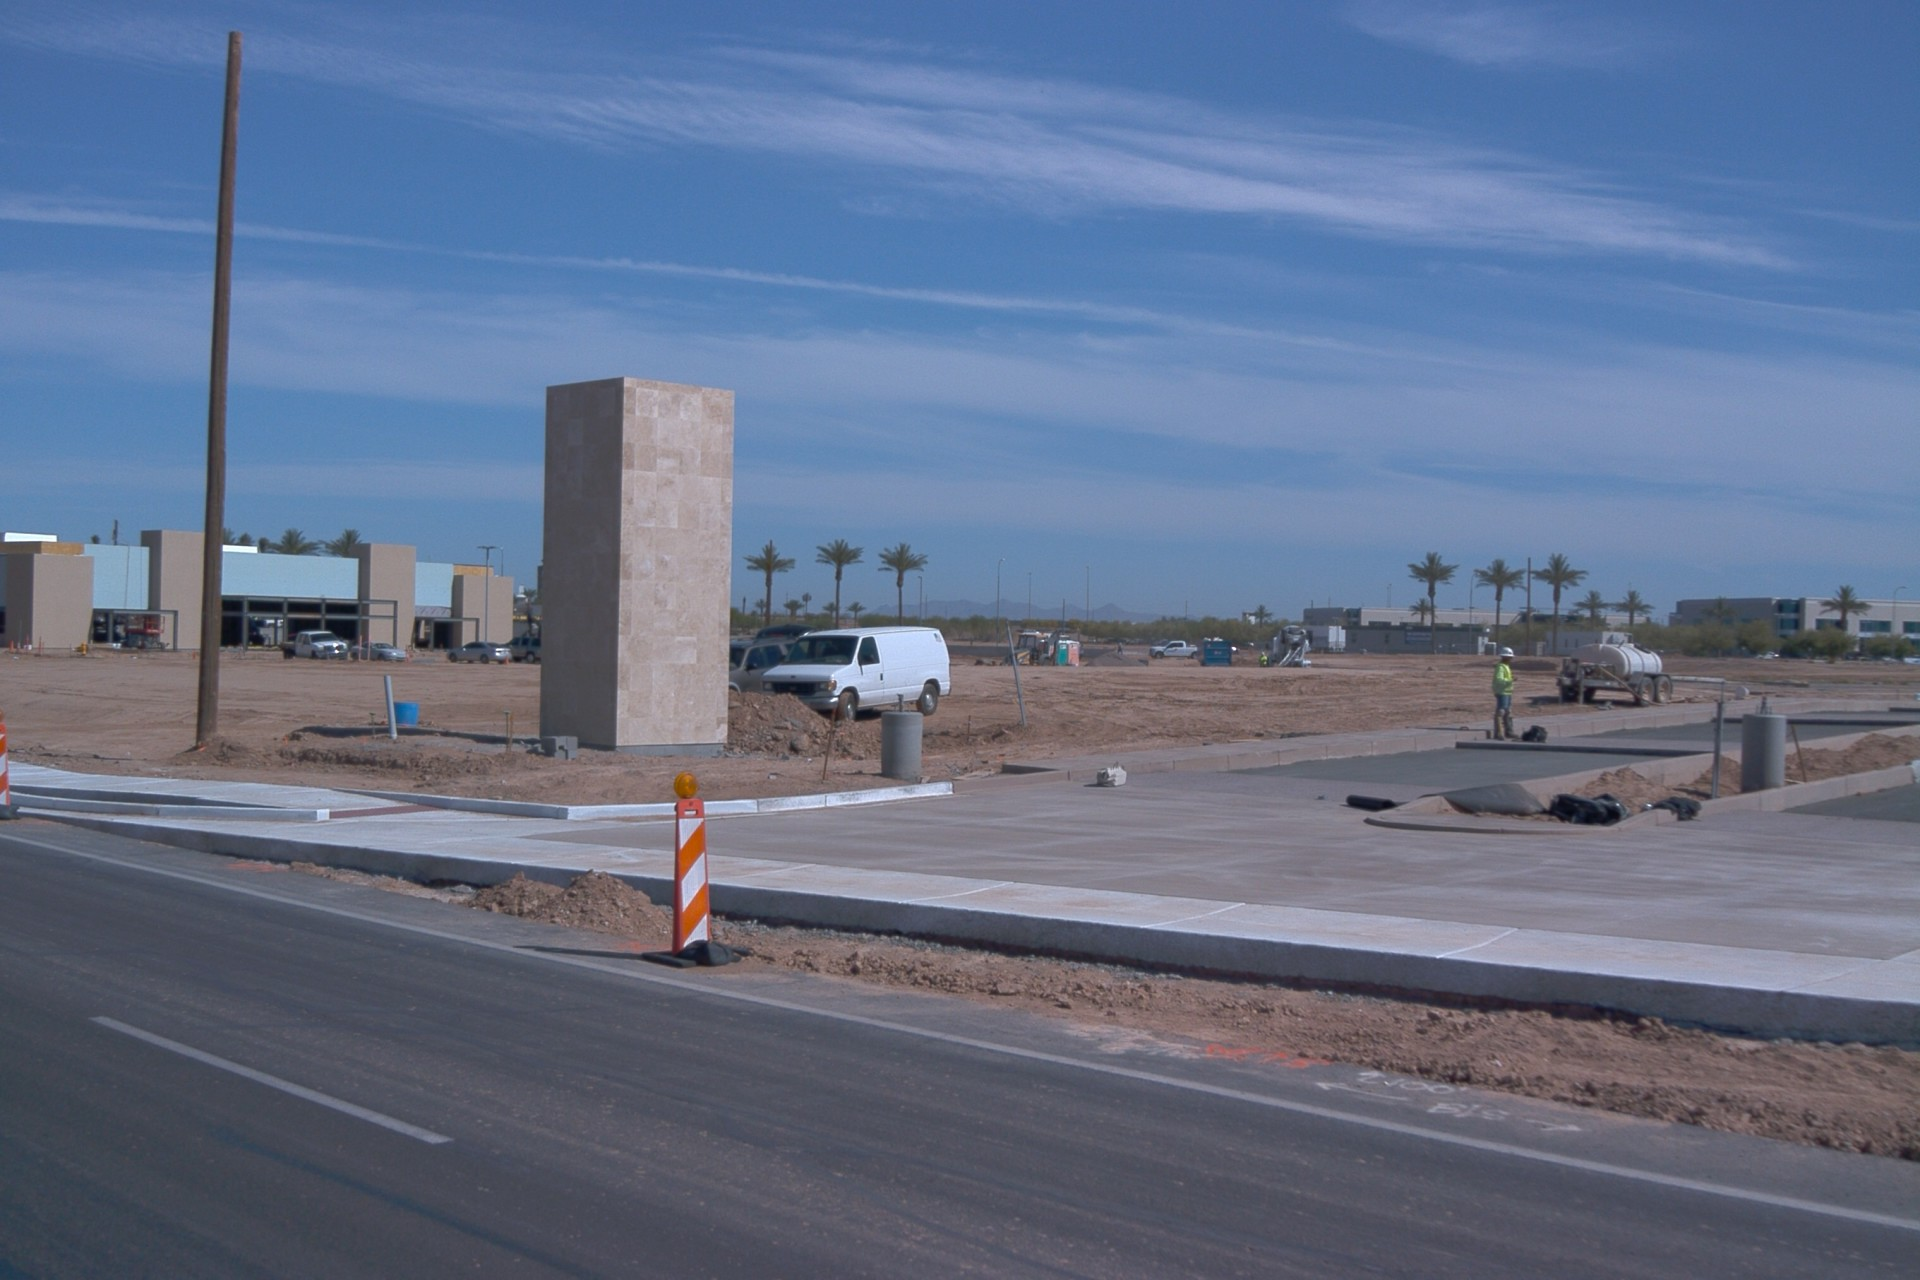TYPE_PEDESTRIAN: (1493, 646, 1525, 742), (1257, 651, 1269, 670), (1117, 637, 1126, 656)
TYPE_VEHICLE: (759, 626, 950, 728), (1558, 643, 1678, 706), (729, 634, 803, 699), (999, 625, 1063, 665), (283, 627, 352, 659), (1264, 622, 1313, 667), (446, 639, 513, 665), (501, 625, 545, 664), (353, 641, 411, 661), (1150, 636, 1203, 656), (1022, 634, 1074, 645), (264, 619, 283, 629), (1227, 641, 1239, 651)
